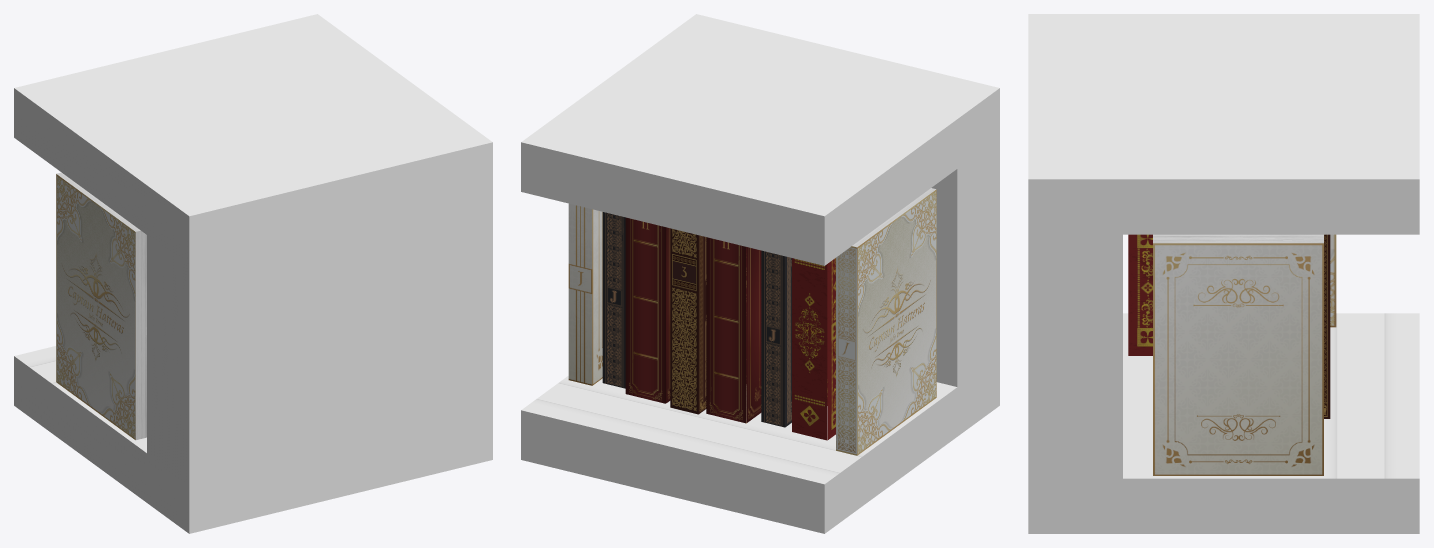
The model's file is bookshelf3.obj.
3 renders of one model, left to right at view 1: azimuth 30°, elevation 25°; view 2: azimuth 150°, elevation 25°; view 3: azimuth 270°, elevation 25°, orthographic. The views are drawn at different scales.
Visible parts, largest first — view 1: cube.015, cube.016, cube.017, cube.020; view 2: cube.015, cube.017, cube.020, cube.016, cube.024, cube.023, cube.019, cube.025, cube.018, cube.022, cube.021; view 3: cube.015, cube.018, cube.017, cube.016, cube.019, cube.025, cube.020.
Boxes of the visible parts, x1,y1,x2,y2 form: cube.015: (14,14,492,265); cube.016: (147,192,492,484); cube.017: (14,346,492,533); cube.020: (56,172,146,440); cube.015: (521,14,999,265); cube.017: (521,356,999,533); cube.020: (836,188,936,455); cube.016: (931,138,999,386); cube.024: (706,237,761,423); cube.023: (625,217,670,403); cube.019: (792,258,835,440); cube.025: (670,228,706,414); cube.018: (568,203,602,385); cube.022: (761,250,791,427); cube.021: (602,212,625,388); cube.015: (1028,14,1419,234); cube.018: (1153,234,1323,475); cube.017: (1028,313,1419,533); cube.016: (1028,234,1122,478); cube.019: (1128,234,1152,355); cube.025: (1324,234,1330,418); cube.020: (1330,234,1336,327).
Bounding box in the file's own units: 1 × 1 × 1.
